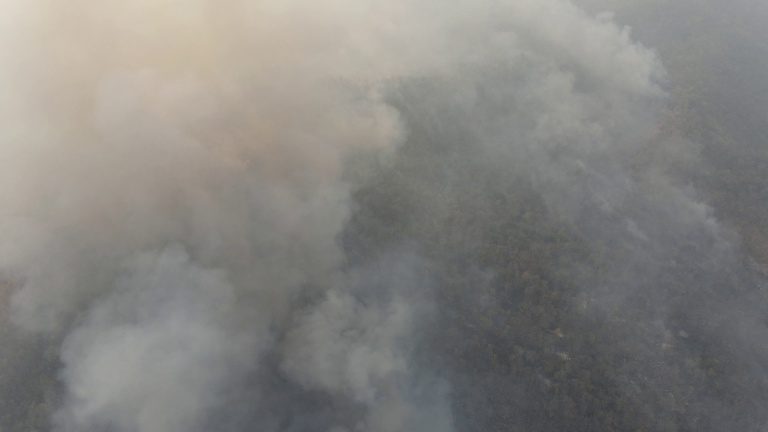smoke: (11, 1, 429, 292), (45, 251, 274, 432), (273, 272, 457, 418)
